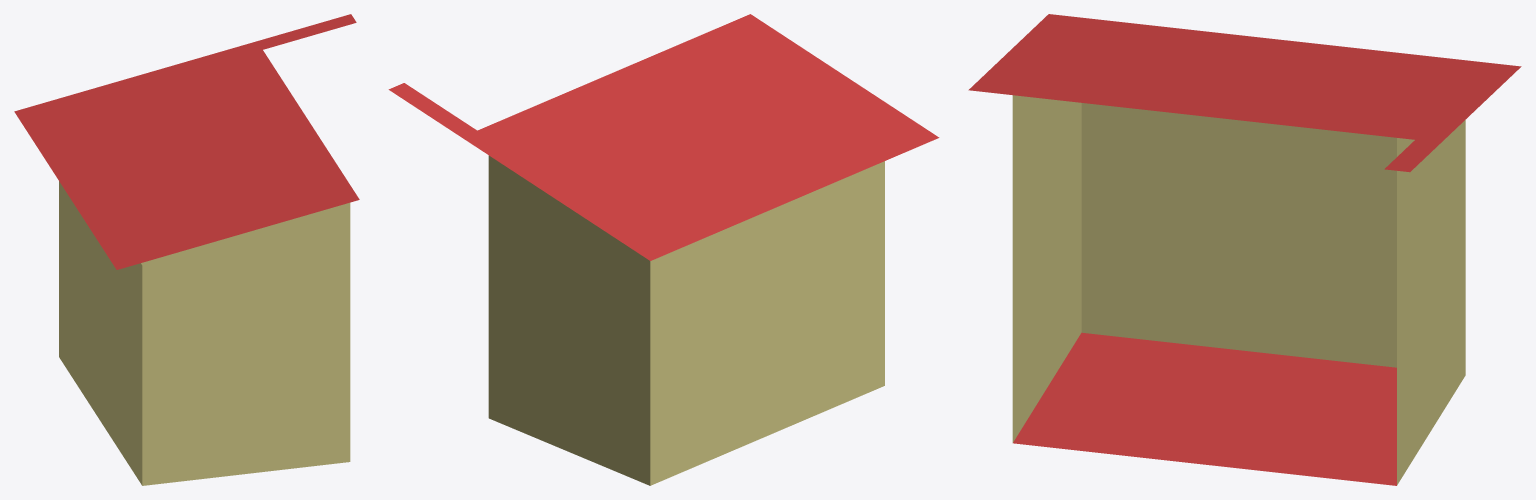
3 views of the same model, side by side, from view 1: azimuth 30°, elevation 25°; view 2: azimuth 150°, elevation 25°; view 3: azimuth 270°, elevation 25° (orthographic). The views are drawn at different scales.
Size of the model in its own units: 11.95 by 12.05 by 8.86.
